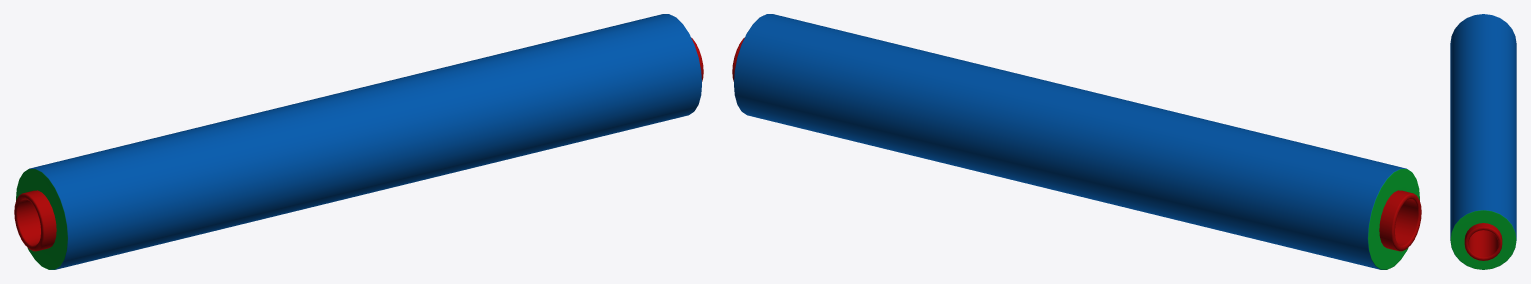
The model's file is SM_roll_5.fbx.
3 renders of one model, left to right at view 1: azimuth 30°, elevation 25°; view 2: azimuth 150°, elevation 25°; view 3: azimuth 270°, elevation 25°, orthographic. The views are drawn at different scales.
Visible parts, largest first — view 1: SM_roll_5; view 2: SM_roll_5; view 3: SM_roll_5.
Part boxes in pixels (x1,y1,x2,y2): SM_roll_5: (14,14,703,269); SM_roll_5: (732,14,1421,269); SM_roll_5: (1450,14,1516,269).
Size of the model in its own units: 1.21 by 0.1657 by 0.1657.
